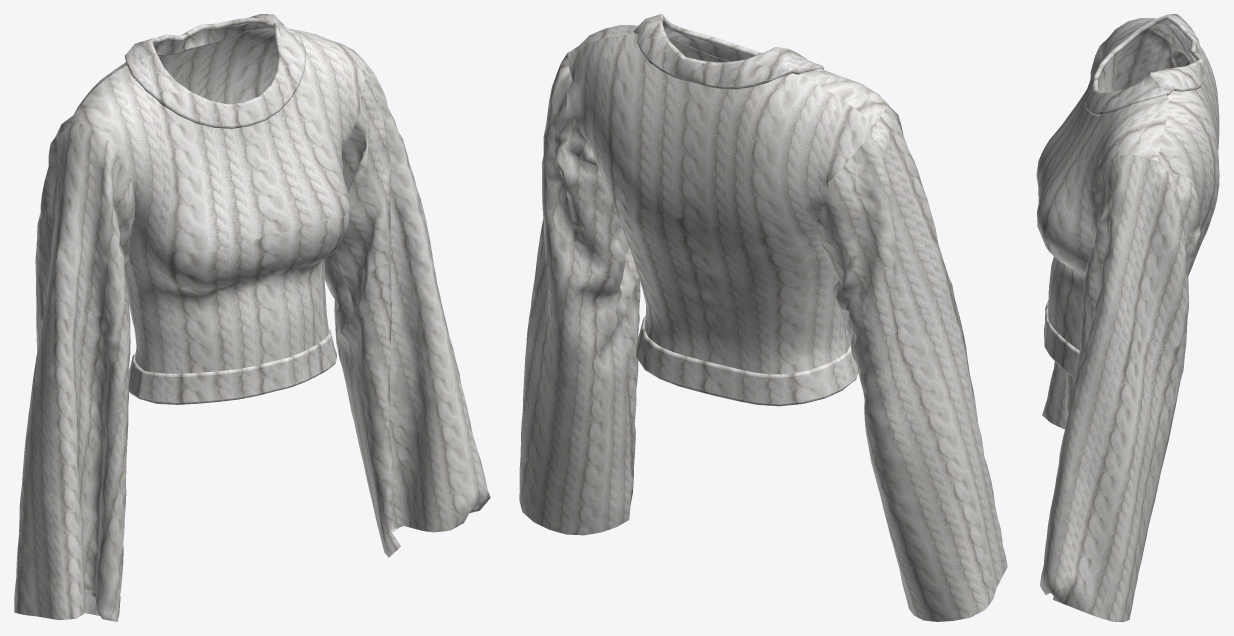
File: sweater-knit-white-diffuse_fbx_thick.fbx
3 renders of one model, left to right at view 1: azimuth 30°, elevation 25°; view 2: azimuth 150°, elevation 25°; view 3: azimuth 270°, elevation 25°, orthographic. The views are drawn at different scales.
Visible parts, largest first — view 1: sweater-knit-white-diffuse_fbx_thick; view 2: sweater-knit-white-diffuse_fbx_thick; view 3: sweater-knit-white-diffuse_fbx_thick.
Part boxes in pixels (x1,y1,x2,y2): sweater-knit-white-diffuse_fbx_thick: (14, 14, 490, 621); sweater-knit-white-diffuse_fbx_thick: (519, 14, 1007, 621); sweater-knit-white-diffuse_fbx_thick: (1036, 14, 1219, 621).
Bounding box in the file's own units: 59.85 × 67.85 × 22.61.
